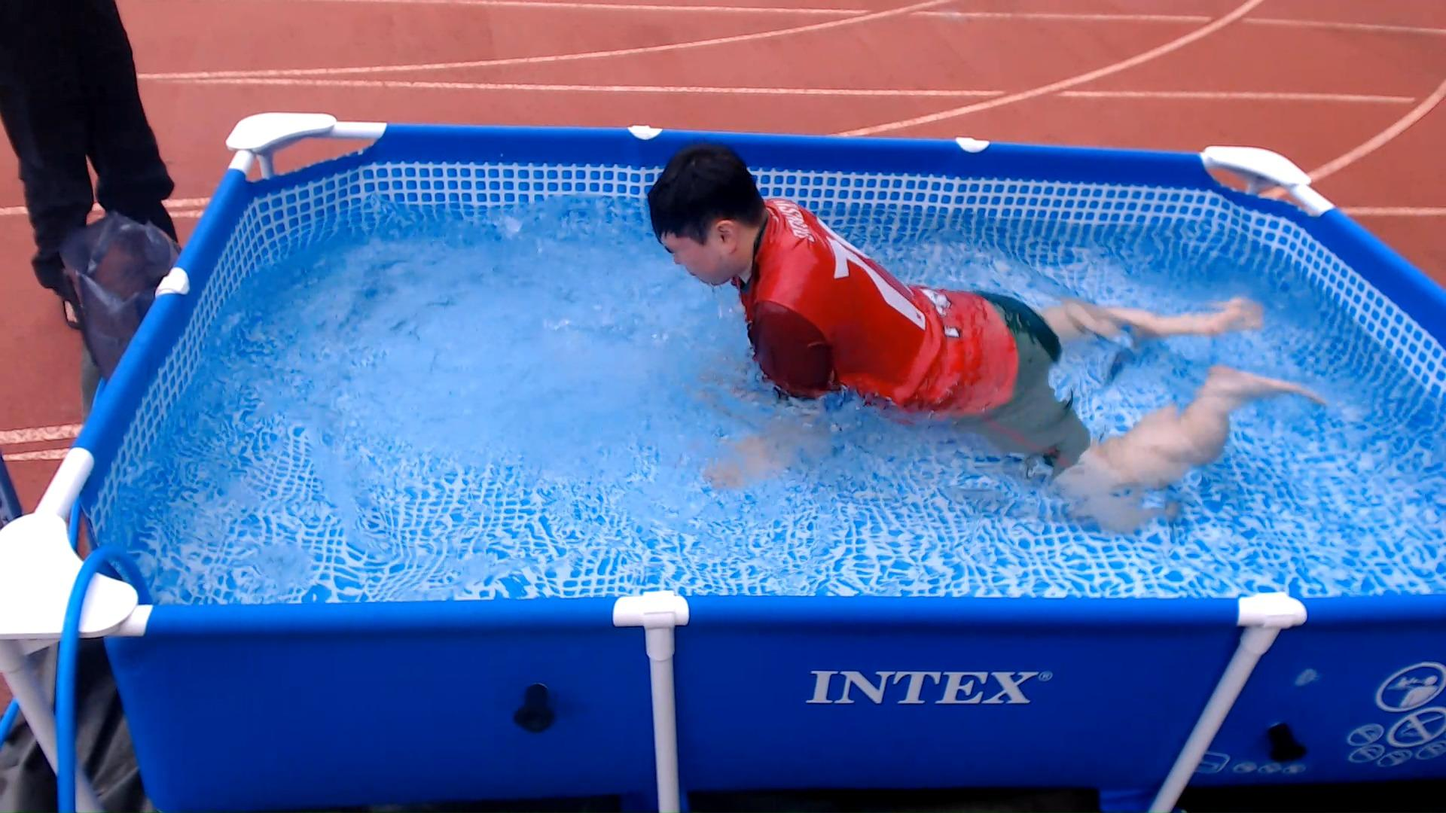Drowning: (571, 145, 1389, 566)
